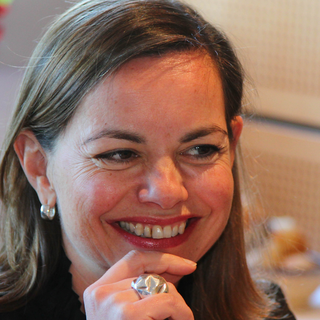eye: (87, 144, 143, 166), (176, 141, 224, 163)
